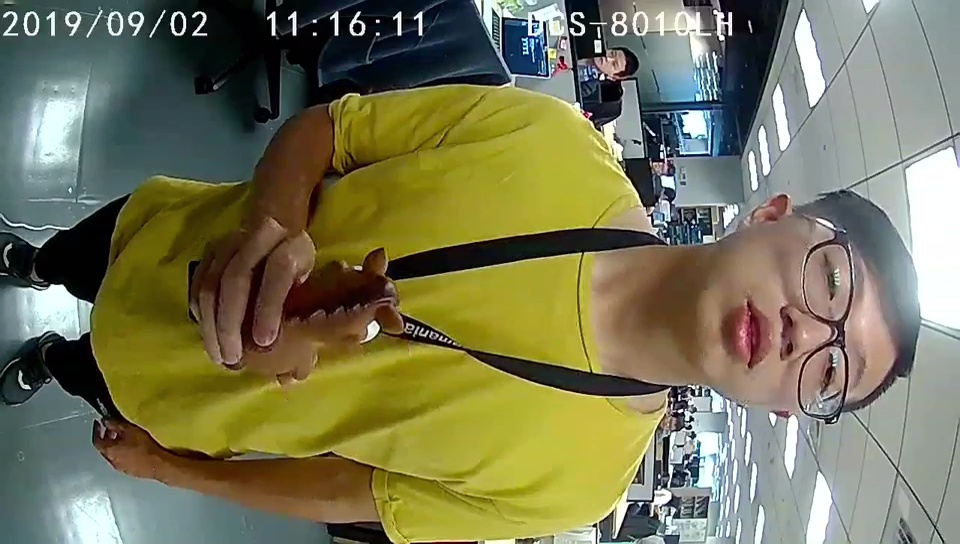horse: (293, 250, 402, 381)
